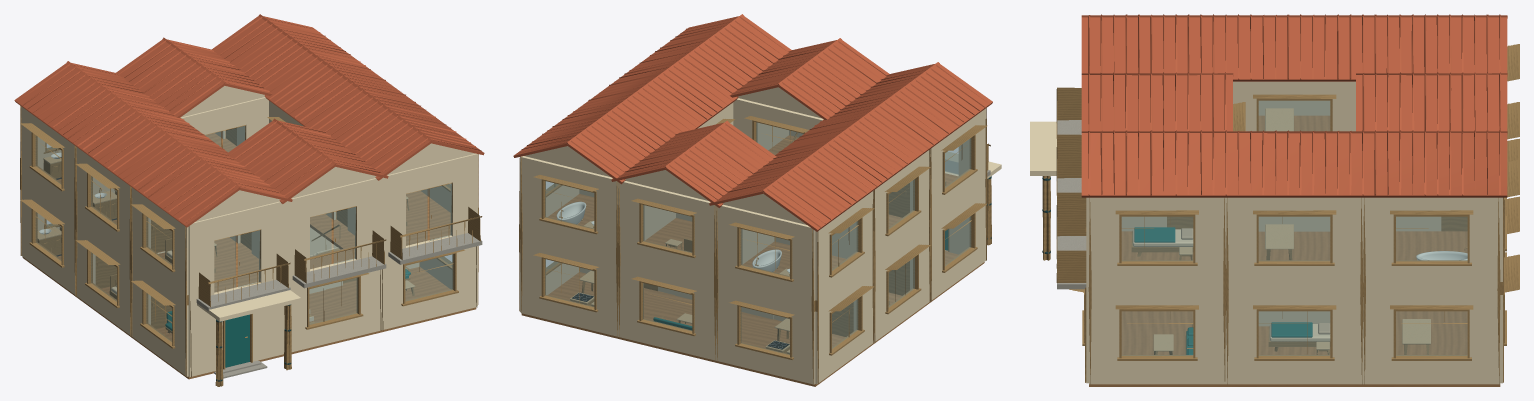
File: res_tropical_villa-321a518065eb.glb
3 renders of one model, left to right at view 1: azimuth 30°, elevation 25°; view 2: azimuth 150°, elevation 25°; view 3: azimuth 270°, elevation 25°, orthographic. The views are drawn at different scales.
Parts seen in each view (by area): view 1: surface_ivory, surface_terracotta, surface_bamboo, surface_Optical_smoke, surface_oak, surface_stone, surface_teal, surface_plaster; view 2: surface_ivory, surface_terracotta, surface_bamboo, surface_Optical_smoke, surface_oak, surface_porcelain, surface_plaster; view 3: surface_terracotta, surface_ivory, surface_bamboo, surface_Optical_smoke, surface_oak, surface_plaster, surface_teal, surface_stone, surface_porcelain.
Boxes of the visible parts, left/top/right/bottom form: surface_ivory: left=21, top=86, right=477, bottom=376; surface_terracotta: left=14, top=14, right=484, bottom=227; surface_bamboo: left=20, top=106, right=482, bottom=386; surface_Optical_smoke: left=36, top=126, right=452, bottom=341; surface_oak: left=22, top=130, right=476, bottom=379; surface_stone: left=196, top=233, right=482, bottom=378; surface_teal: left=165, top=269, right=410, bottom=367; surface_plaster: left=37, top=156, right=414, bottom=288; surface_ivory: left=520, top=87, right=1001, bottom=384; surface_terracotta: left=513, top=14, right=992, bottom=231; surface_bamboo: left=519, top=108, right=991, bottom=384; surface_Optical_smoke: left=545, top=122, right=970, bottom=354; surface_oak: left=521, top=135, right=984, bottom=386; surface_porcelain: left=556, top=201, right=789, bottom=273; surface_plaster: left=570, top=221, right=789, bottom=353; surface_terracotta: left=1081, top=14, right=1507, bottom=197; surface_ivory: left=1030, top=81, right=1502, bottom=384; surface_bamboo: left=1042, top=44, right=1519, bottom=384; surface_Optical_smoke: left=1122, top=101, right=1467, bottom=355; surface_oak: left=1089, top=115, right=1500, bottom=386; surface_plaster: left=1153, top=108, right=1430, bottom=351; surface_teal: left=1134, top=227, right=1312, bottom=354; surface_stone: left=1057, top=120, right=1086, bottom=289; surface_porcelain: left=1416, top=251, right=1467, bottom=260.
Size of the model in its own units: 13.14 by 7.31 by 14.29.
Materials: 16 (5 with a texture image).
